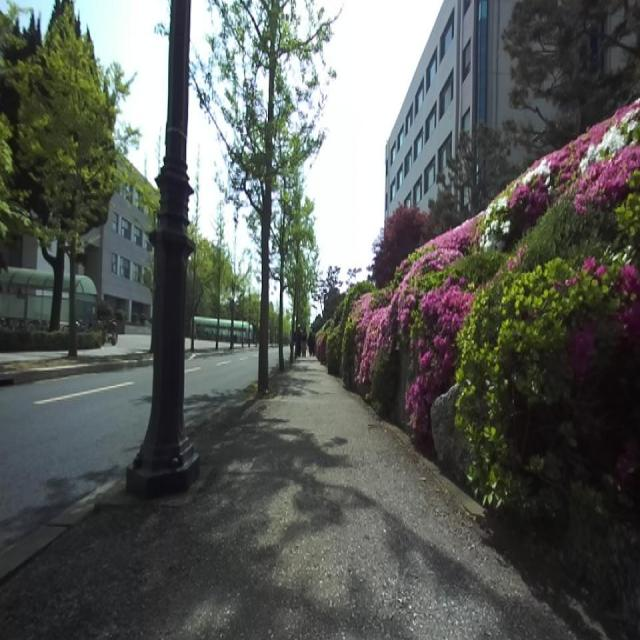sidewalk: (0, 357, 608, 640)
